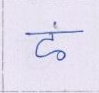anusvara: (53, 22, 58, 28)
